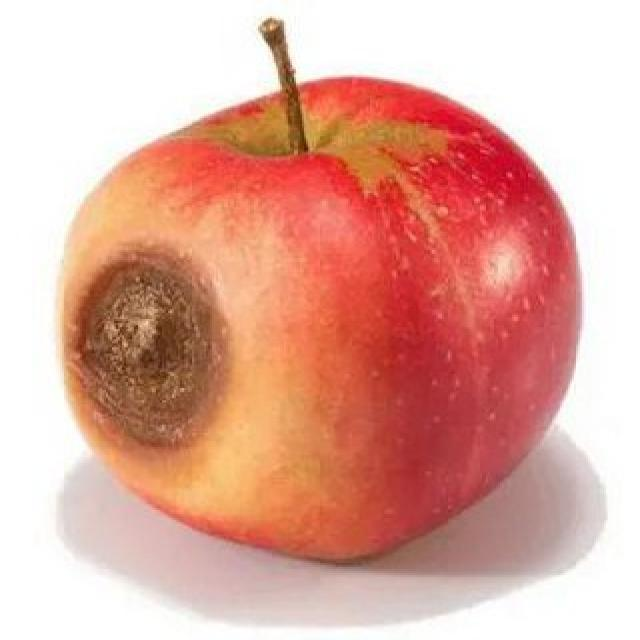Rotten: (58, 66, 557, 536)
